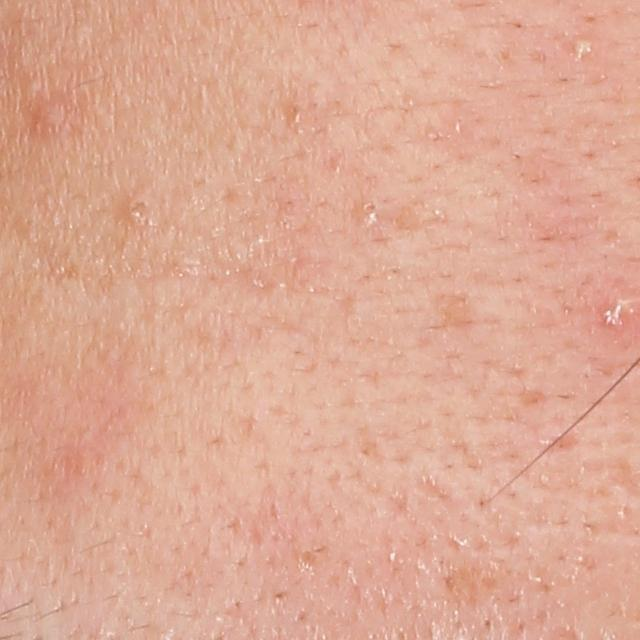comedo: (28, 101, 67, 136), (120, 196, 151, 225), (361, 199, 382, 232)
pustule: (565, 31, 596, 64)
